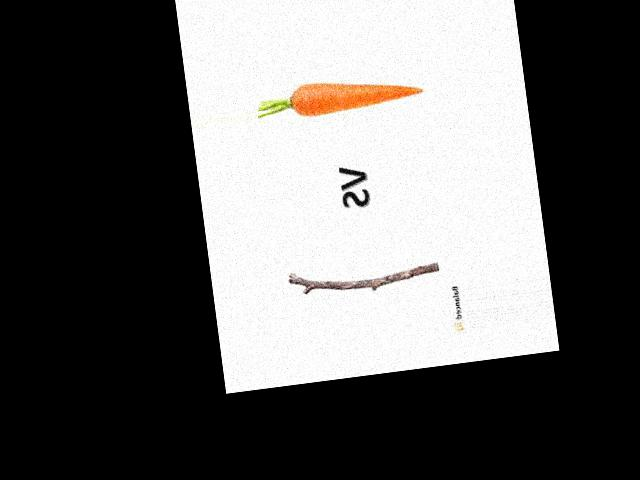carrot: (284, 62, 429, 128)
